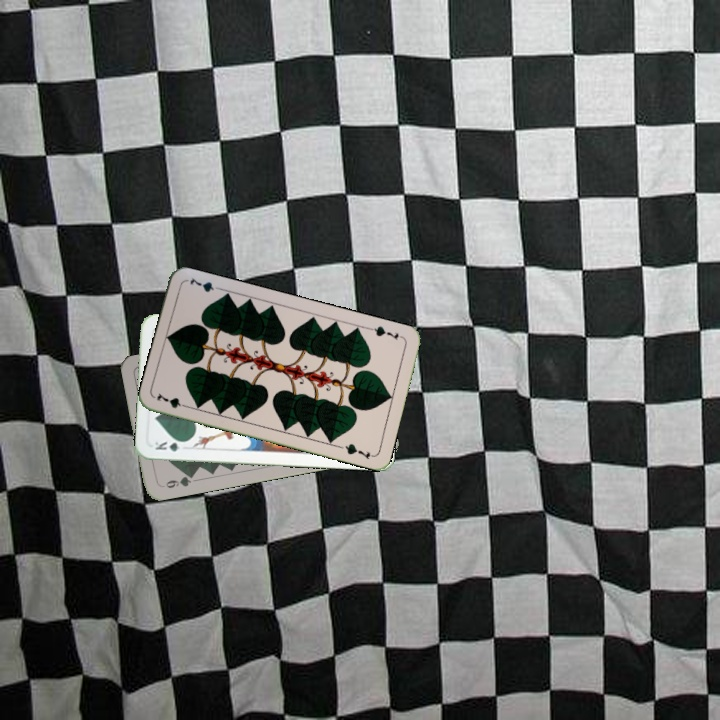G7: (152, 389, 192, 411), (366, 322, 406, 343)
G9: (157, 470, 196, 491)
GK: (151, 437, 190, 454)
